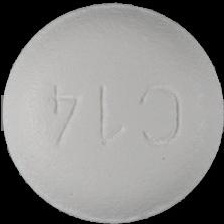63629-3390: (0, 0, 224, 224)
